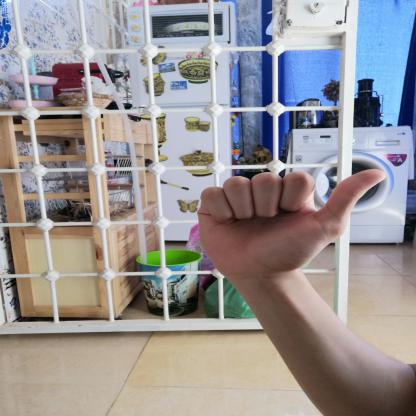DAD: (183, 157, 398, 287)
